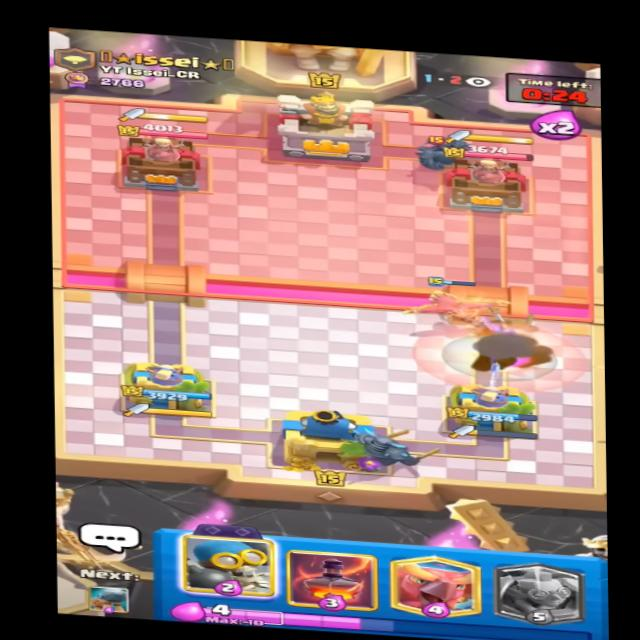pekka: (400, 121, 483, 177)
